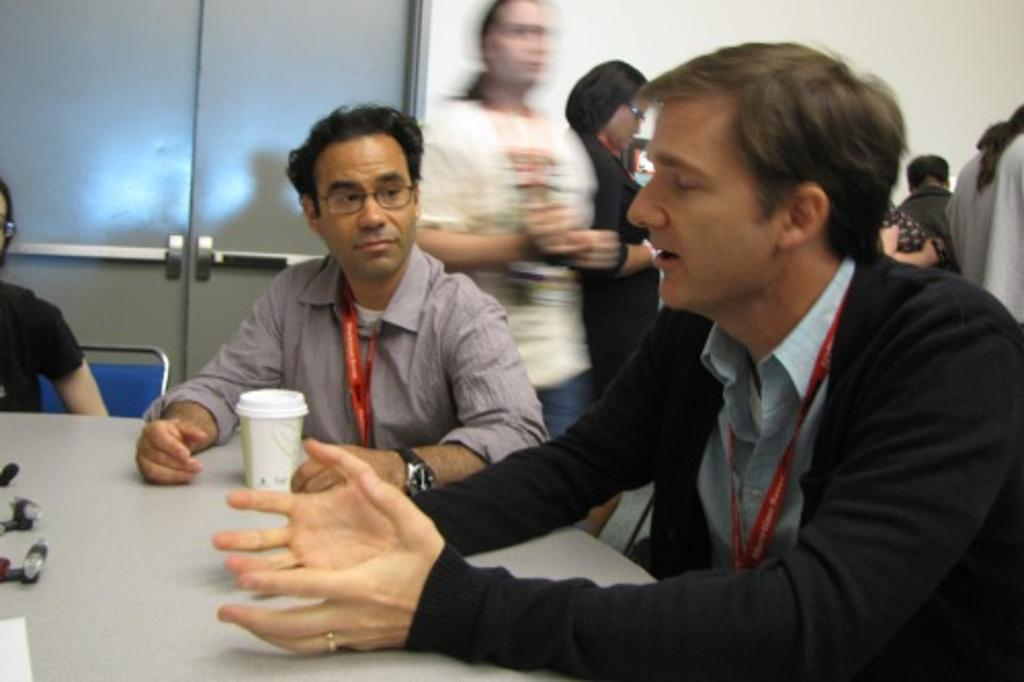face: (627, 99, 784, 307), (317, 136, 415, 276), (492, 1, 547, 84), (607, 83, 647, 150)
